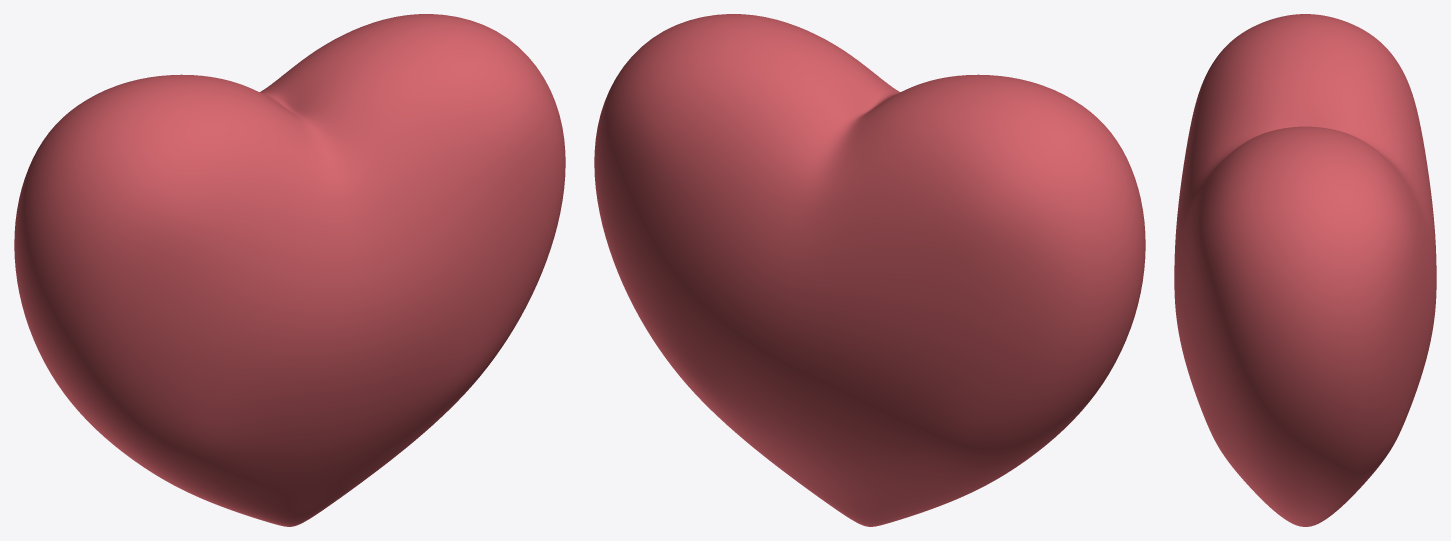
The model's file is heart.fbx.
The picture shows the model from 3 angles, left to right: view 1: azimuth 30°, elevation 25°; view 2: azimuth 150°, elevation 25°; view 3: azimuth 270°, elevation 25°; orthographic projection. The views are drawn at different scales.
Parts seen in each view (by area): view 1: Vert; view 2: Vert; view 3: Vert.
Boxes of the visible parts, x1,y1,x2,y2 form: Vert: [14, 14, 565, 526]; Vert: [594, 14, 1145, 526]; Vert: [1174, 14, 1436, 526].
Size of the model in its own units: 277 by 236 by 128.
